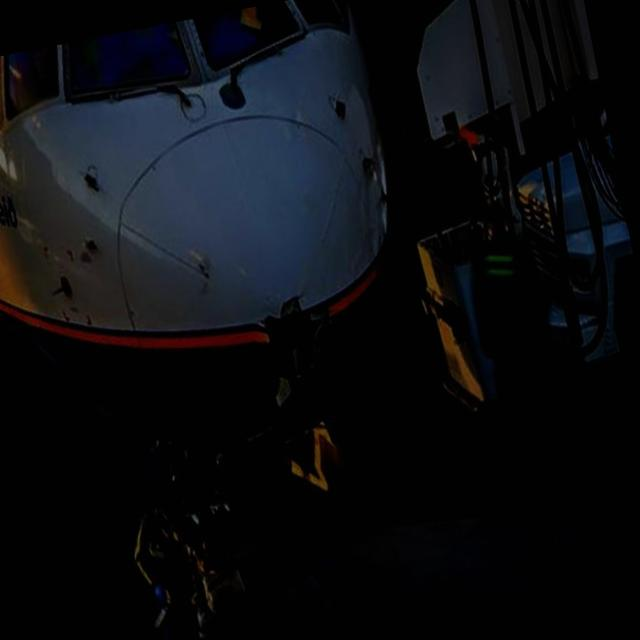crack: (248, 290, 342, 394)
